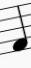note: (12, 4, 28, 53)
